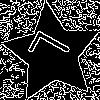L: (27, 28, 80, 74)
